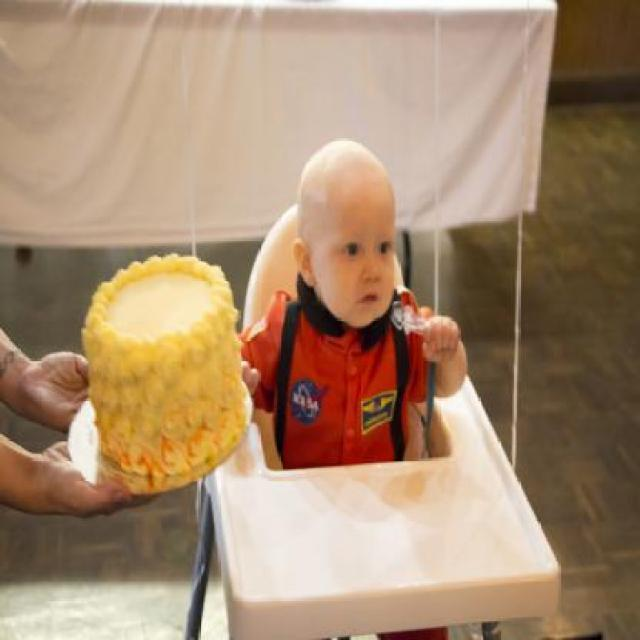Cake: (77, 248, 245, 476)
